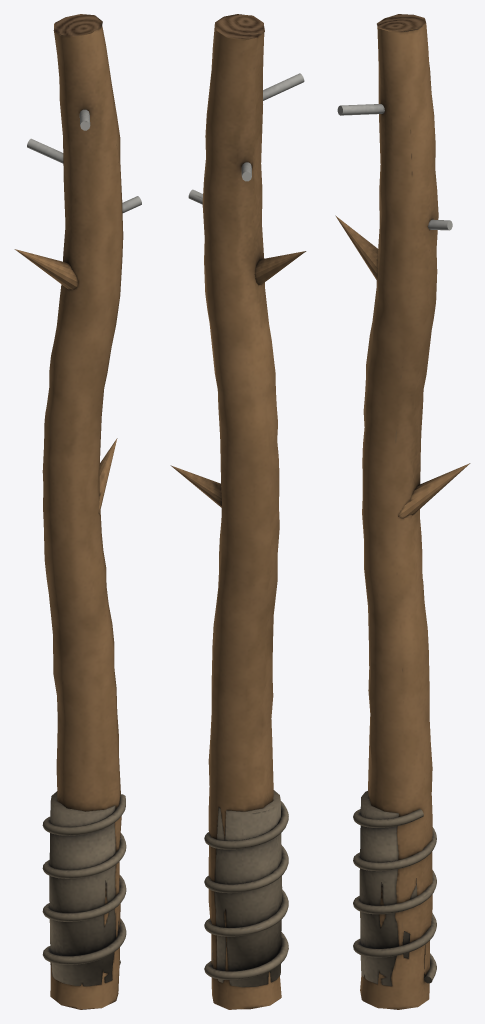
File: arma_graveto_pregos.glb
3 views of the same model, side by side, from view 1: azimuth 30°, elevation 25°; view 2: azimuth 150°, elevation 25°; view 3: azimuth 330°, elevation 25° (orthographic).
Visible parts, largest first — view 1: arma_graveto_pregos; view 2: arma_graveto_pregos; view 3: arma_graveto_pregos.
Boxes of the visible parts, bbox=[...] form: arma_graveto_pregos: bbox=[14, 14, 141, 1009]; arma_graveto_pregos: bbox=[170, 14, 306, 1009]; arma_graveto_pregos: bbox=[335, 14, 470, 1009].
Size of the model in its own units: 0.1101 by 0.8439 by 0.0908.
Materials: 1 (1 with a texture image).
